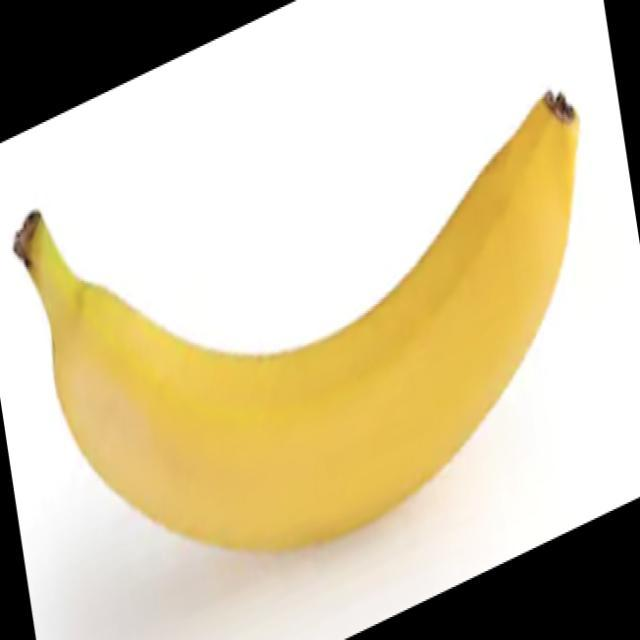Banana: (12, 88, 580, 553)
